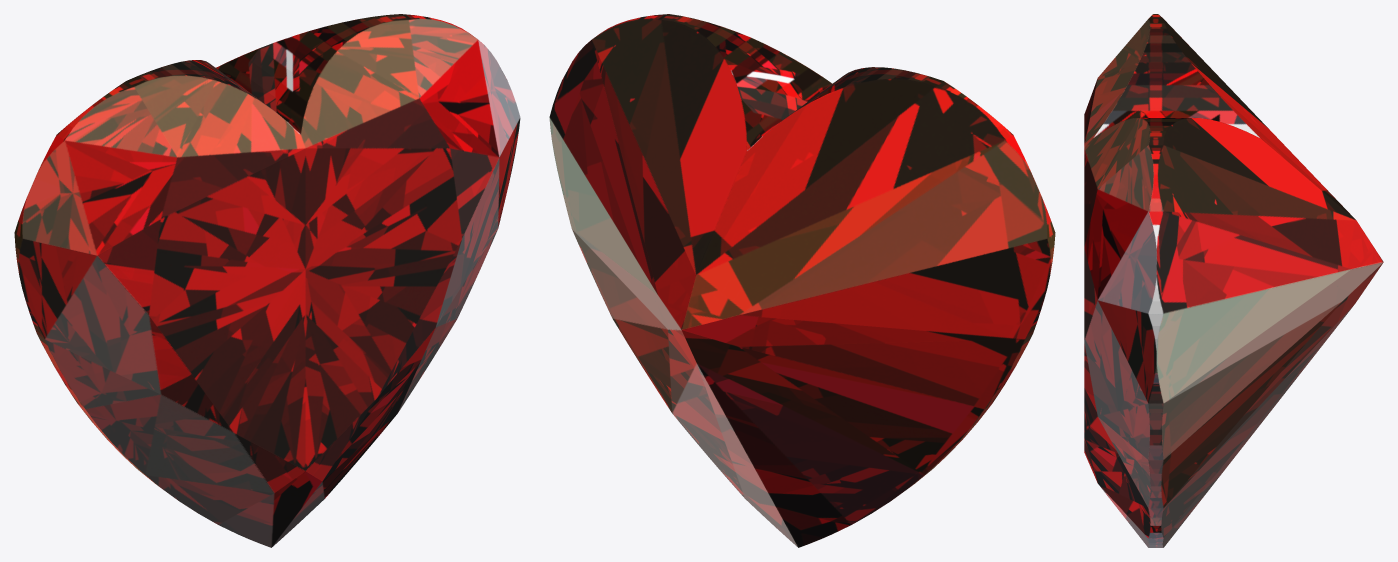
The model's file is jem1.glb.
The picture shows the model from 3 angles, left to right: view 1: azimuth 30°, elevation 25°; view 2: azimuth 150°, elevation 25°; view 3: azimuth 270°, elevation 25°; orthographic projection. The views are drawn at different scales.
Visible parts, largest first — view 1: Heart; view 2: Heart; view 3: Heart.
Part boxes in pixels (<box>): Heart: <box>14,14,520,547</box>; Heart: <box>549,14,1055,547</box>; Heart: <box>1084,14,1383,547</box>.
Bounding box in the file's own units: 0.8467 × 0.8046 × 0.4666.
1 material, 1 textured.
